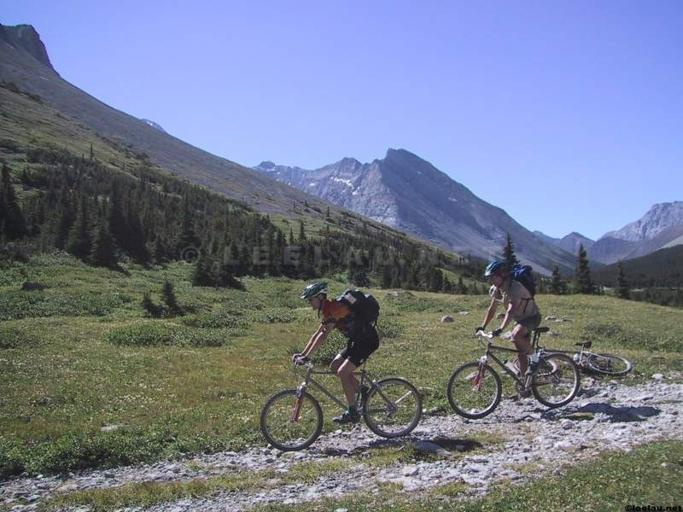non-vehicle: (256, 353, 424, 454), (445, 323, 582, 420), (509, 339, 634, 377)
